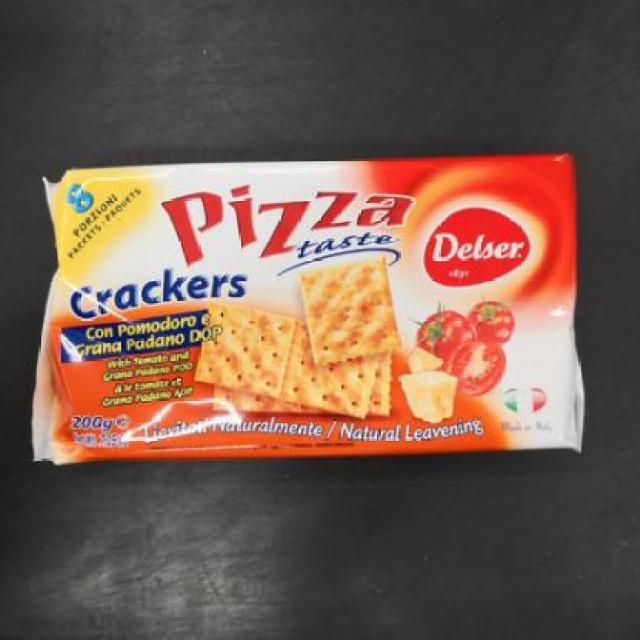Cracker: (27, 148, 596, 468)
